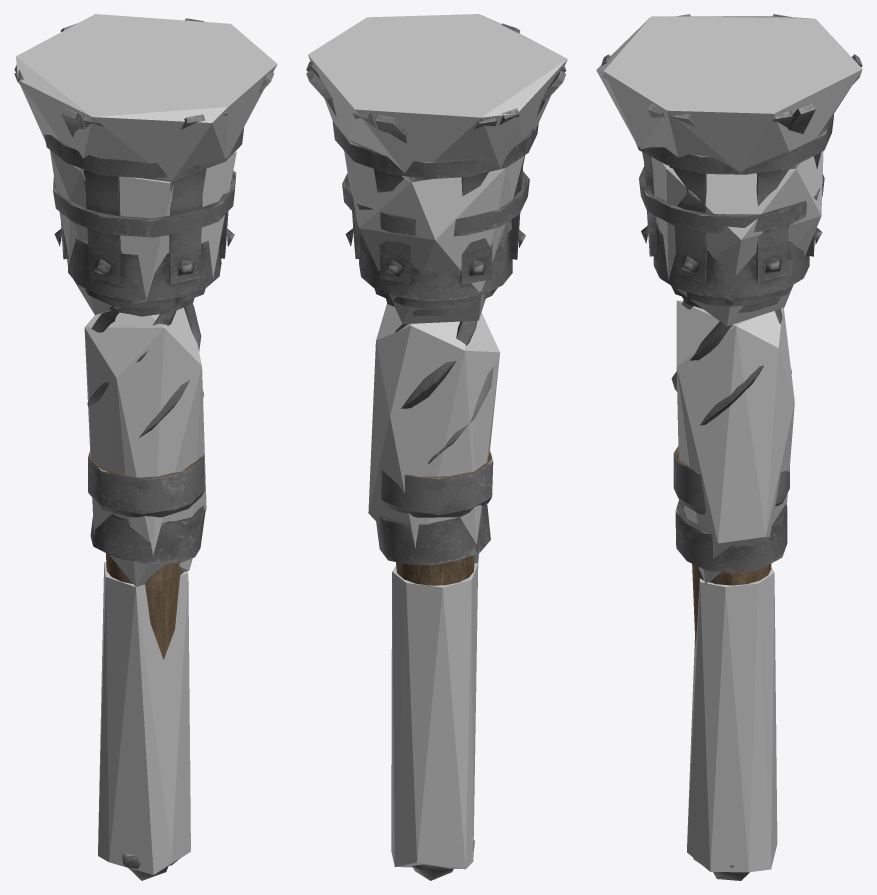
File: SM_torch.fbx
3 renders of one model, left to right at view 1: azimuth 30°, elevation 25°; view 2: azimuth 150°, elevation 25°; view 3: azimuth 270°, elevation 25°, orthographic.
Parts seen in each view (by area): view 1: SM_torch_ConvexHulls, SM_torch; view 2: SM_torch_ConvexHulls, SM_torch; view 3: SM_torch_ConvexHulls, SM_torch.
Boxes of the visible parts, x1=… form: SM_torch_ConvexHulls: x1=16, y1=14, x2=277, y2=874; SM_torch: x1=14, y1=18, x2=274, y2=880; SM_torch_ConvexHulls: x1=308, y1=14, x2=567, y2=869; SM_torch: x1=306, y1=23, x2=566, y2=880; SM_torch_ConvexHulls: x1=596, y1=16, x2=862, y2=872; SM_torch: x1=601, y1=14, x2=862, y2=880.
Size of the model in its own units: 36.03 by 38.83 by 131.
Materials: 2 (1 with a texture image).
